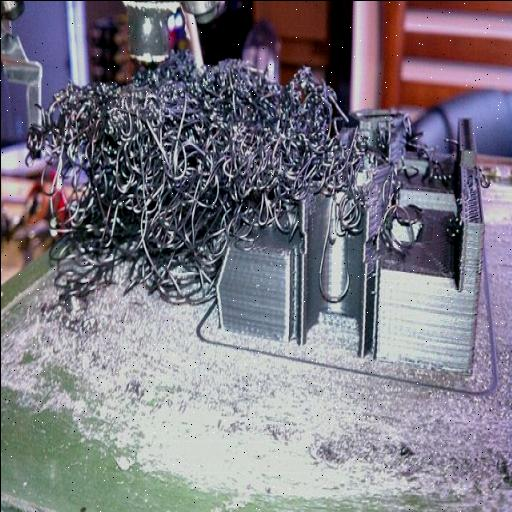spaghetti: (25, 51, 386, 331)
